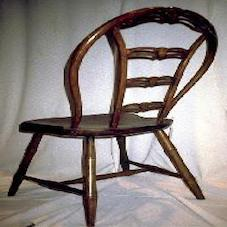chair: (3, 1, 214, 220)
